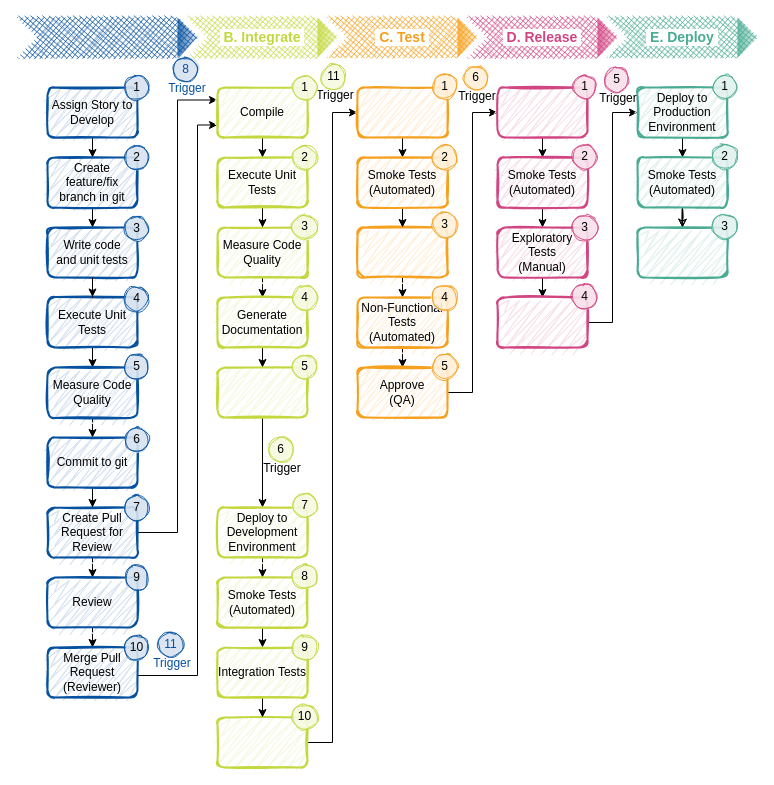
The diagram is 774 pixels wide and 785 high, and some of its shapes have lost their labels. Here are the shapes that lost their labels. From the top down, the centre of each, then its label:
At point 107,37: "A. Code".
At point 402,112: "Deploy to Test Environment".
At point 542,112: "Deploy to Staging Environment".
At point 402,252: "Functional Tests (Automated)".
At point 682,252: "Generate Release Notes".
At point 542,322: "Deploy Decision".
At point 262,392: "Publish Artifacts".
At point 262,742: "Approve (Developer)".
